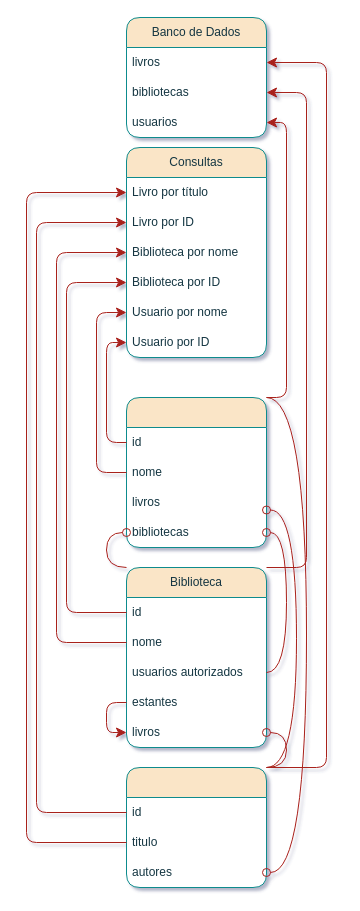
Image size: 360x911. Some labels were removed from this diagram. Here are the shapes that lost their labels. From the top down, the box of each, then its label:
(126, 396, 266, 548): Usuario
(126, 766, 266, 888): Livro
